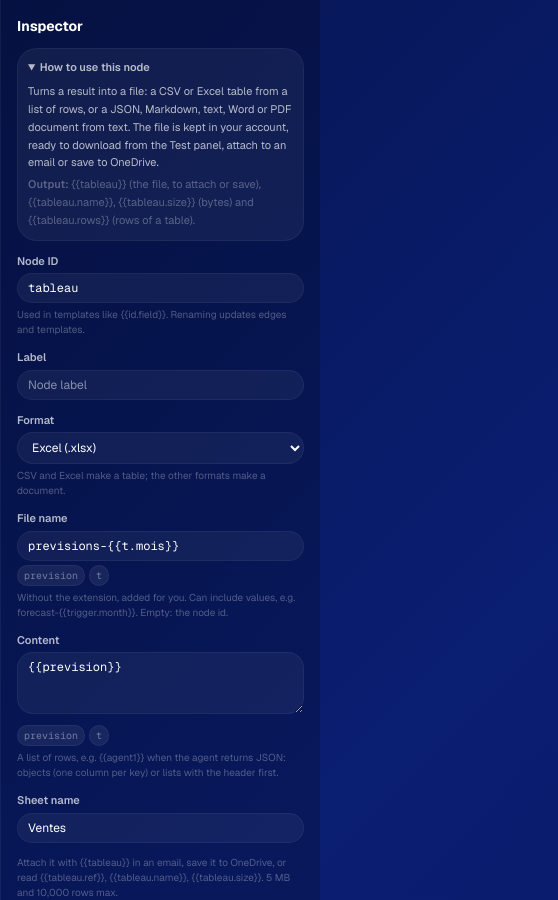
Test: inspector: file › shows format, file name, content and the sheet for Excel, and edits them
Expected: the dropdown labelled "Format" shows "Excel (.xlsx)", [17,432,304,464]
Expected: the field labelled "File name prevision t" holds "previsions-{{t.mois}}", [17,531,304,561]
Type "2" into the field labelled "Sheet name" at (160, 828), box [17,813,304,843]
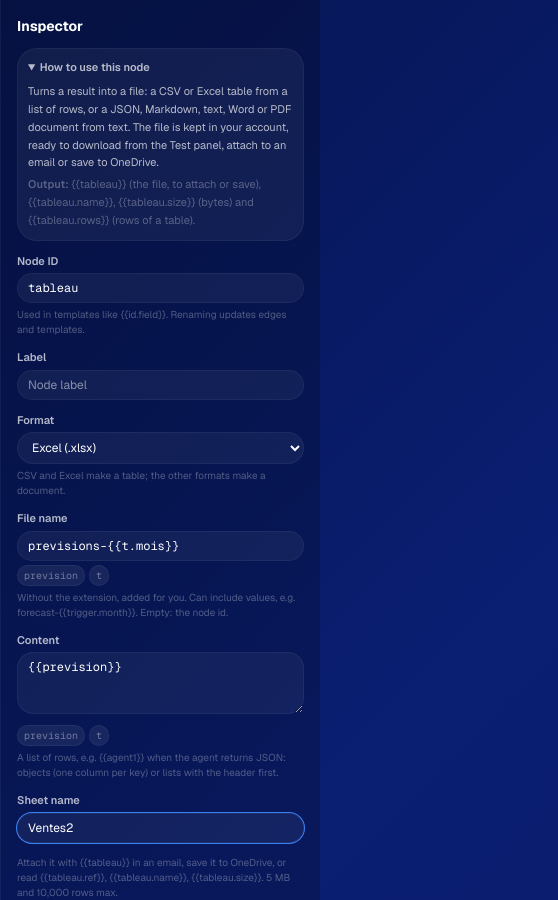
Select "PDF (.pdf)" in the dropdown labelled "Format" at (160, 448), box [17,432,304,464]
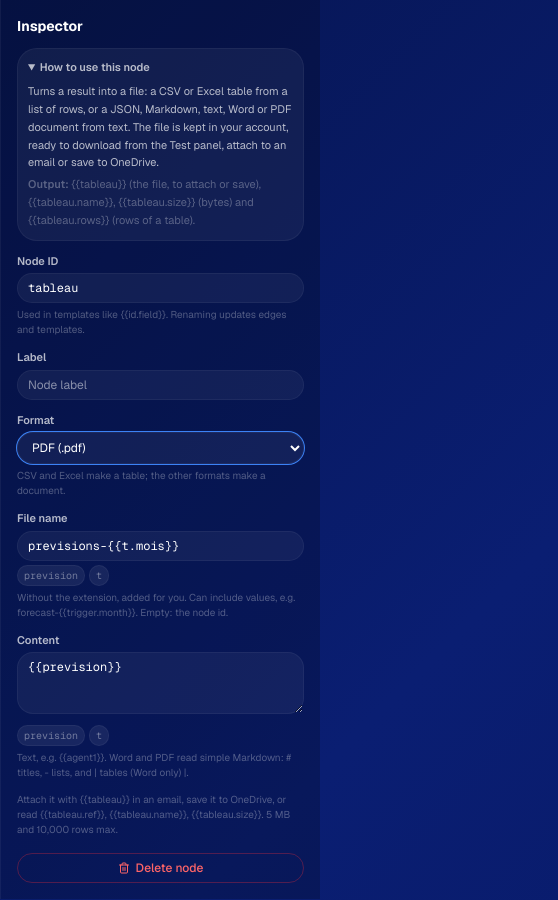
Expected: the text "{{tableau.ref}}" is shown, [17,793,290,836]
Now the text labelled "Sheet" is gone
